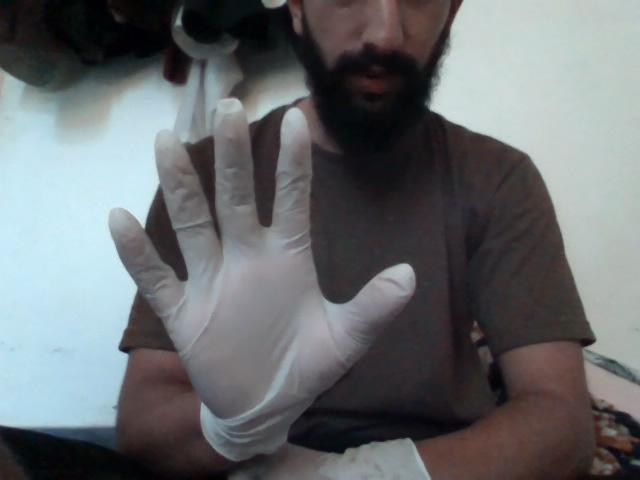gloves: (121, 81, 415, 438), (142, 441, 455, 480)
